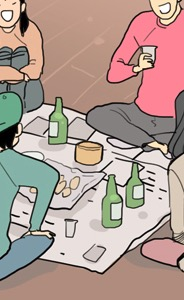bottle: (98, 173, 124, 230), (45, 93, 71, 147), (121, 158, 147, 211)
